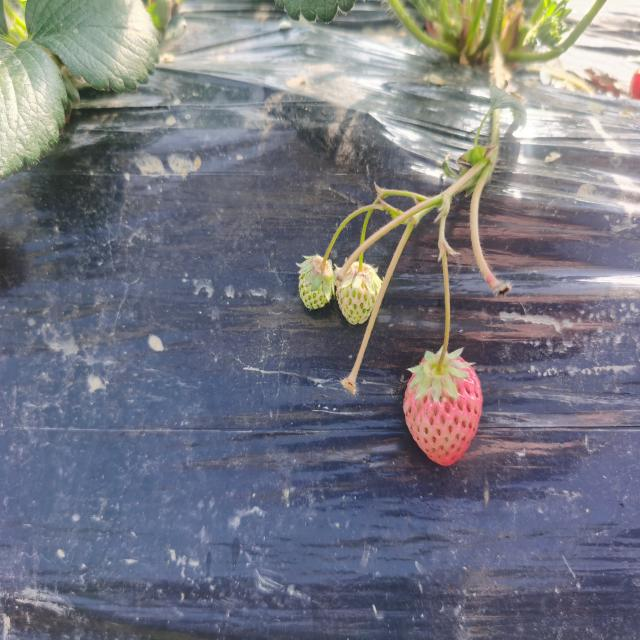stem: (436, 317, 450, 375)
strawberry: (403, 354, 482, 466)
